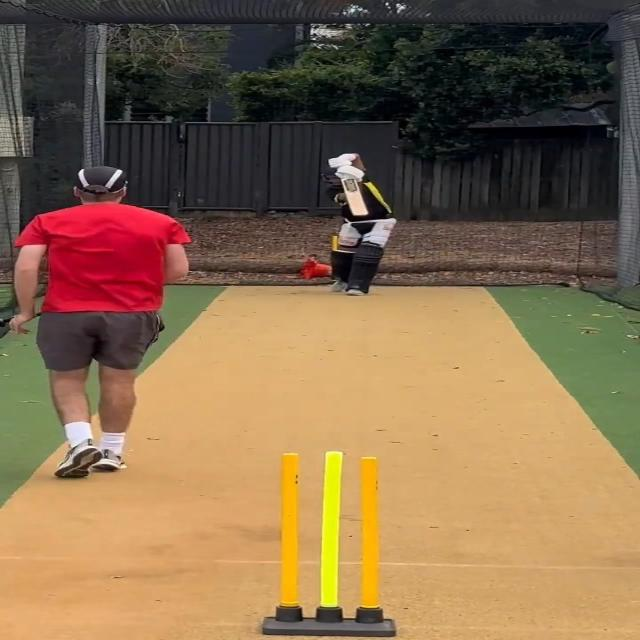stump: (260, 448, 398, 638)
